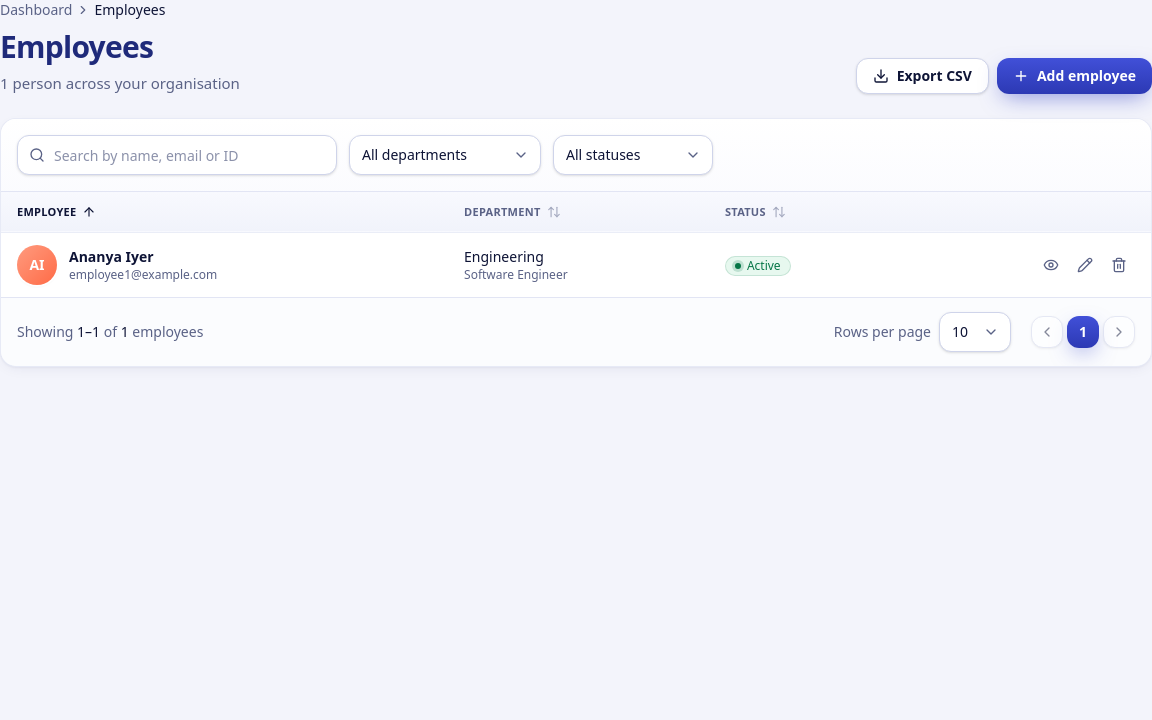
<EmployeeDirectory> › delete › keeps the dialog open and shows the server error when deletion fails
Click the button named "Delete Ananya Iyer".
click(1119, 264)  # box x1=1103 y1=248 x2=1135 y2=280
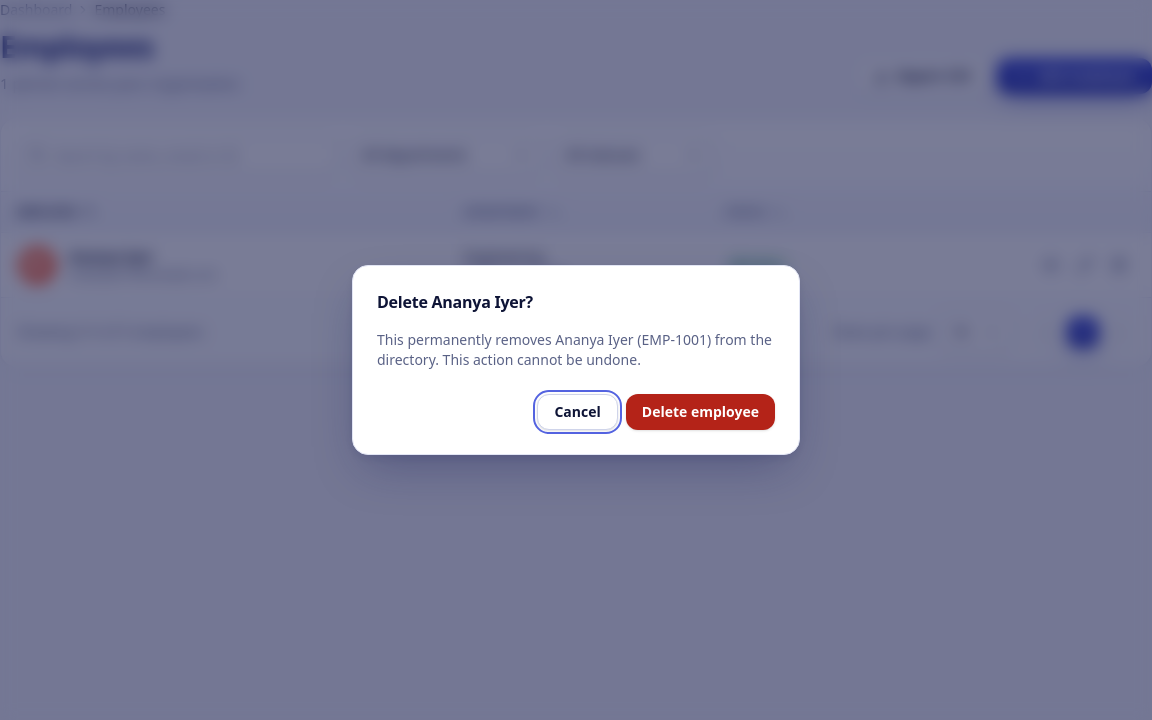
Click the button "Delete employee".
click(700, 412)  # box x1=626 y1=394 x2=775 y2=430
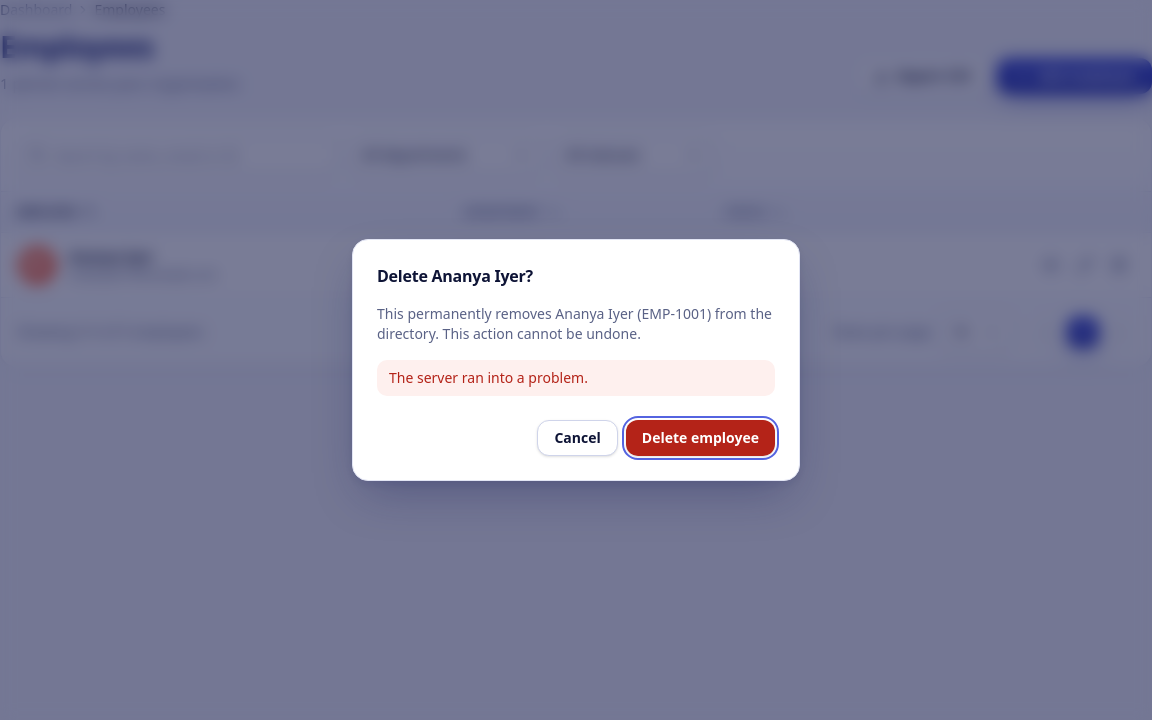
Result: the message reads "The server ran into a problem." at x1=389 y1=368 x2=588 y2=387
